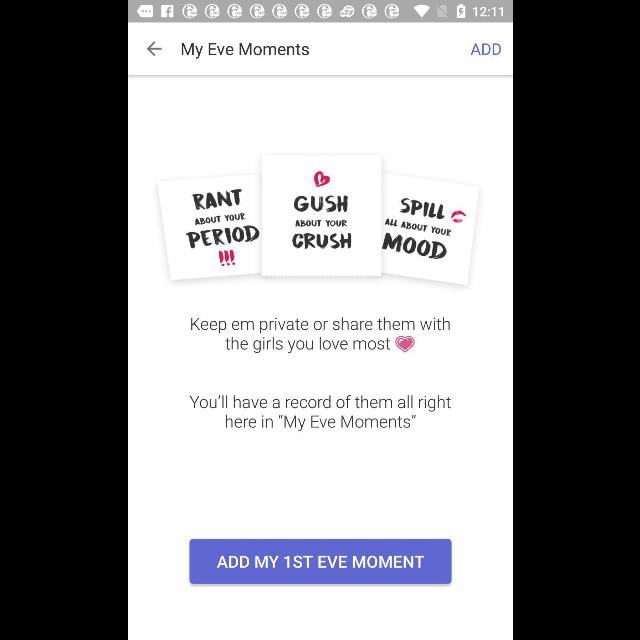icon: (146, 42, 162, 56)
image: (156, 154, 478, 286)
text: (188, 395, 450, 431), (191, 317, 449, 353), (182, 43, 308, 59), (470, 43, 500, 55)
textbutton: (189, 538, 451, 584)
toolbar: (128, 23, 512, 75)
uppertaskbar: (128, 1, 512, 23)
